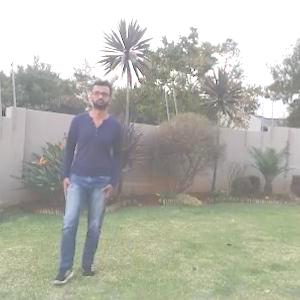follow: (51, 56, 128, 291)
